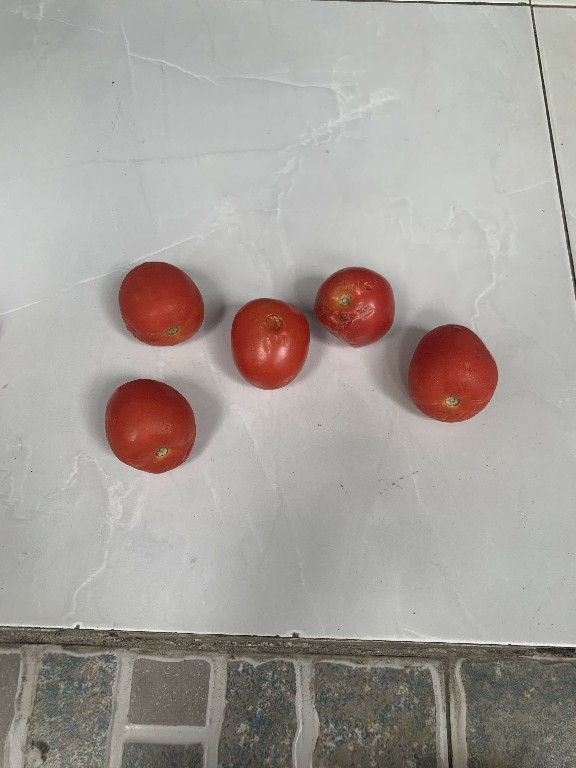NG: (306, 259, 401, 355), (228, 289, 305, 402)
OK: (404, 315, 495, 430), (101, 372, 196, 476), (109, 252, 210, 349)
